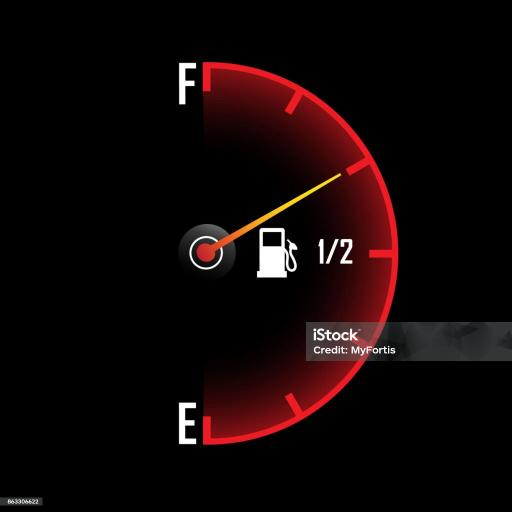empty: (173, 396, 198, 449)
fuel_icon: (255, 228, 299, 286)
full: (168, 62, 199, 104)
guage_area: (149, 49, 414, 459)
needle_center: (172, 216, 237, 283)
needle_tip: (325, 169, 349, 188)
